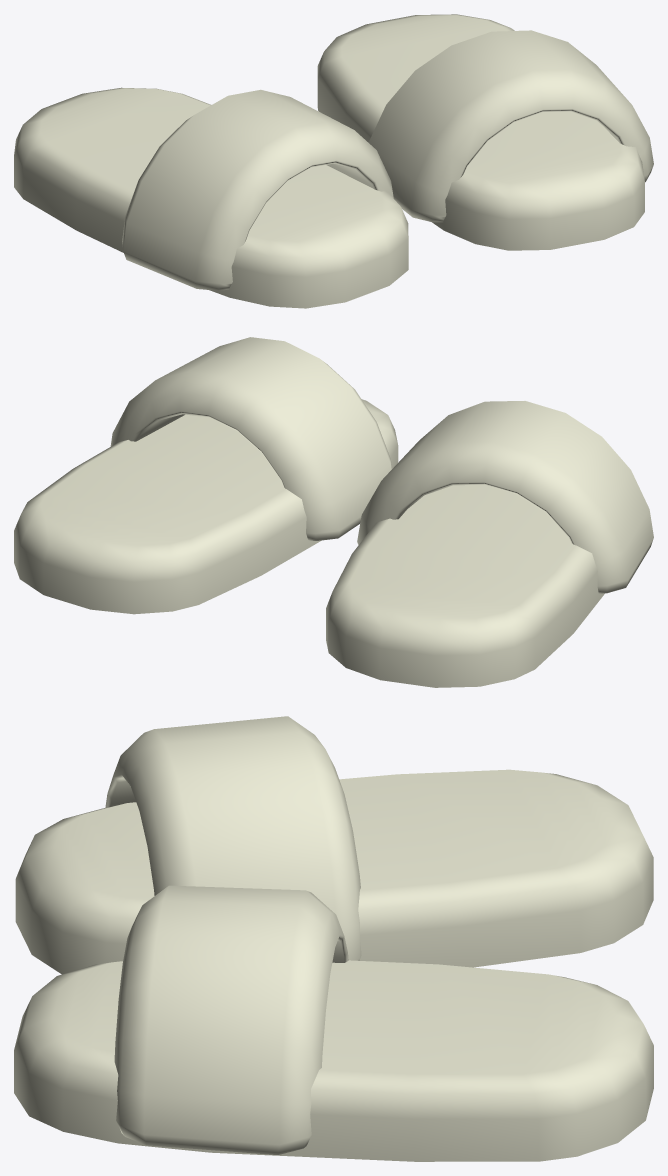
The model's file is Slippers.fbx.
3 views of the same model, one above another, from view 1: azimuth 30°, elevation 25°; view 2: azimuth 150°, elevation 25°; view 3: azimuth 270°, elevation 25° (orthographic). The views are drawn at different scales.
Parts seen in each view (by area): view 1: Slippers; view 2: Slippers; view 3: Slippers.
Boxes of the visible parts, left/top/right/bottom form: Slippers: left=14, top=14, right=653, bottom=308; Slippers: left=14, top=337, right=653, bottom=687; Slippers: left=14, top=716, right=653, bottom=1161.
Size of the model in its own units: 0.3884 by 0.0975 by 0.3126.
